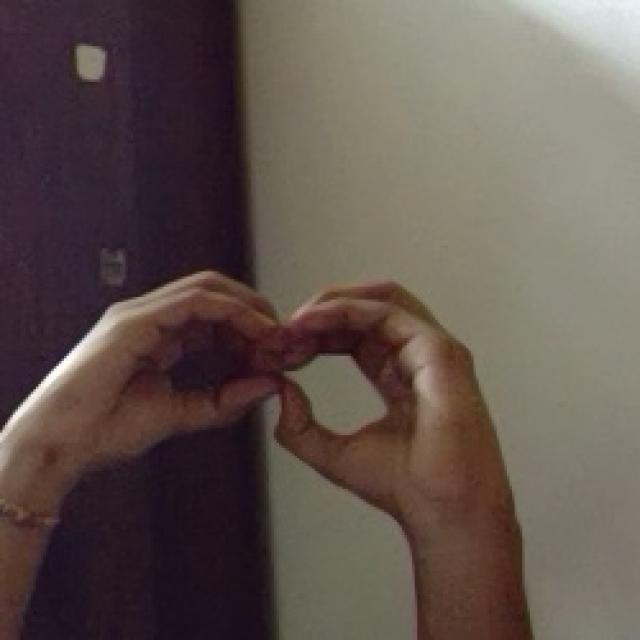Alphabet-B: (39, 268, 516, 508)
